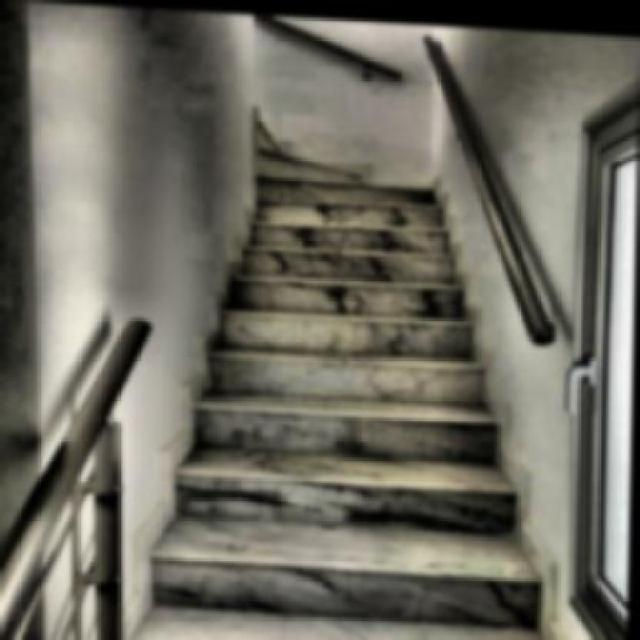stair: (145, 146, 564, 625)
